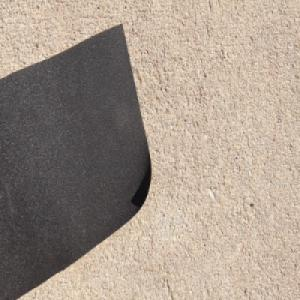PaintChip: (0, 29, 152, 292)
